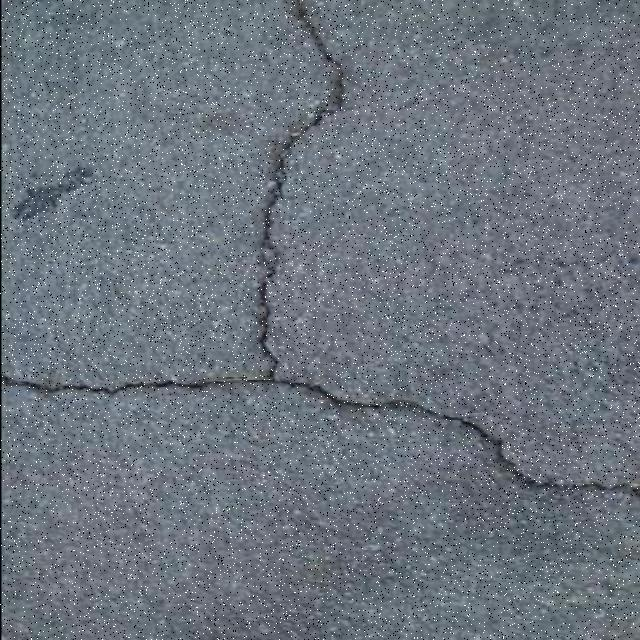Crack: (1, 0, 640, 494)
